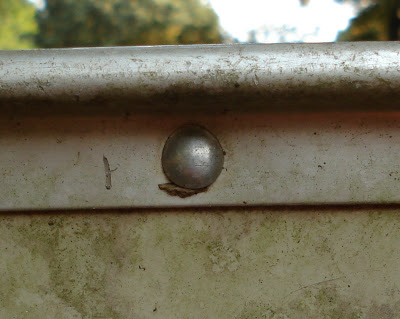rivet: (160, 123, 226, 191)
